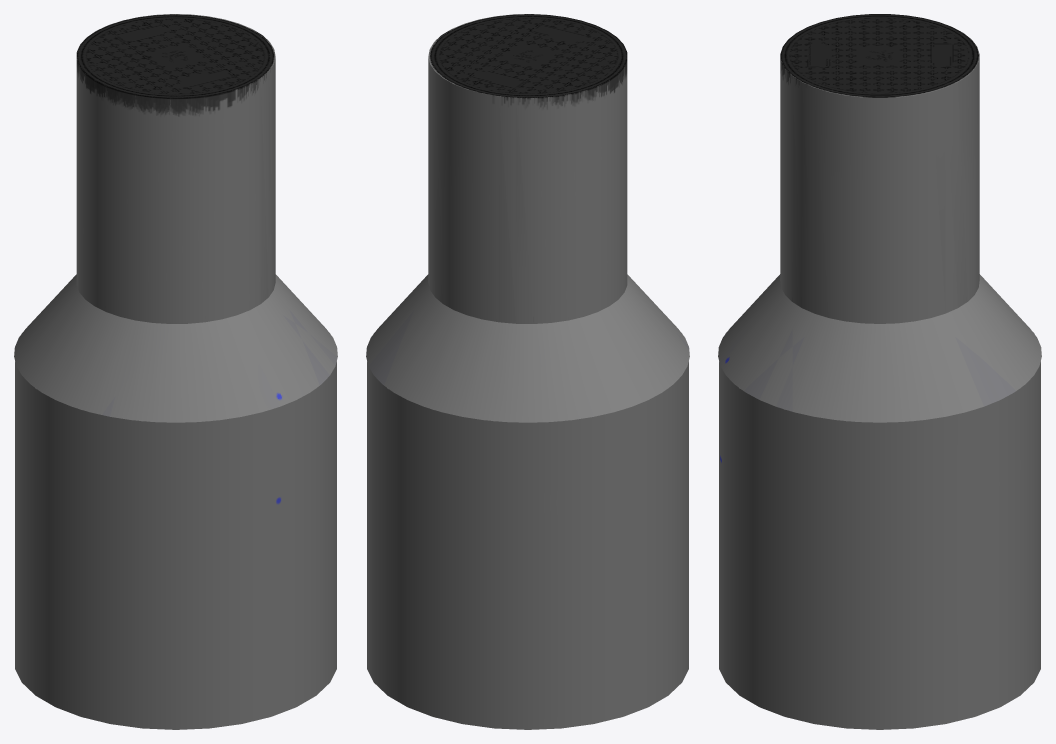
The model's file is wsHole.glb.
3 views of the same model, side by side, from view 1: azimuth 30°, elevation 25°; view 2: azimuth 150°, elevation 25°; view 3: azimuth 270°, elevation 25° (orthographic).
Visible parts, largest first — view 1: node_id21, node_id45, node_id9, node_id51; view 2: node_id21, node_id45, node_id9, node_id51; view 3: node_id21, node_id45, node_id9, node_id51.
Boxes of the visible parts, x1,y1,x2,y2 form: node_id21: [15, 362, 336, 729]; node_id45: [76, 58, 275, 323]; node_id9: [14, 274, 337, 422]; node_id51: [76, 14, 275, 98]; node_id21: [367, 362, 688, 729]; node_id45: [428, 58, 627, 323]; node_id9: [366, 274, 689, 422]; node_id51: [428, 14, 627, 98]; node_id21: [719, 362, 1040, 729]; node_id45: [780, 55, 979, 323]; node_id9: [718, 274, 1041, 422]; node_id51: [780, 14, 979, 97].
Size of the model in its own units: 0.2484 by 0.512 by 0.2482.
9 materials, 9 textured.
